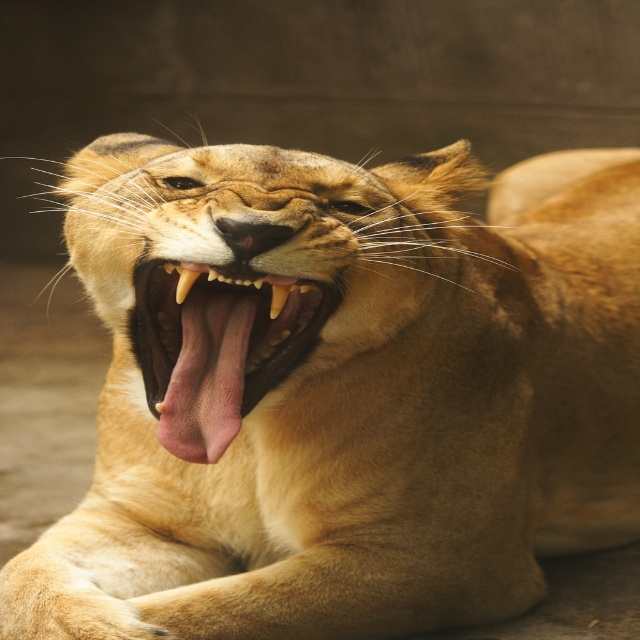Lion: (1, 107, 639, 640)
